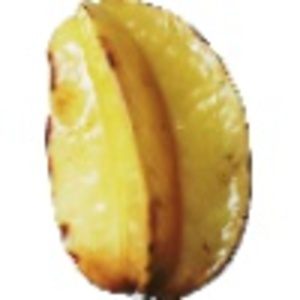carambola: (44, 1, 254, 300)
